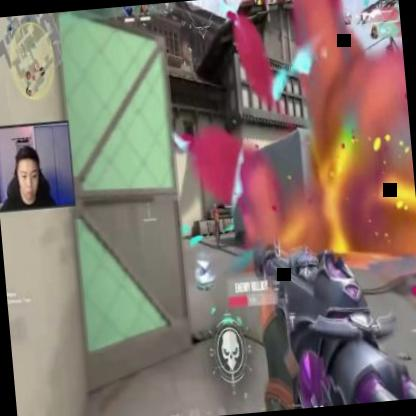enemy: (210, 204, 223, 246)
enemy_head: (214, 203, 218, 210)
